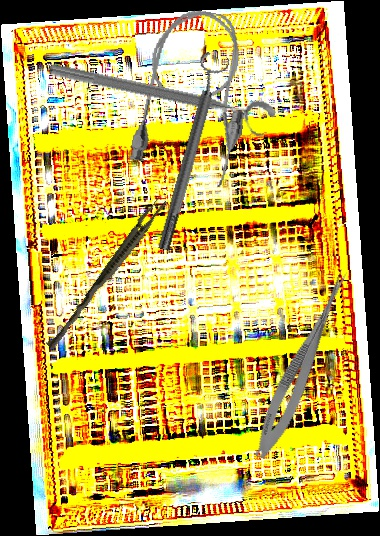Cannula: (126, 2, 264, 190)
Fixation Ring: (44, 56, 278, 142), (146, 50, 234, 254)
Micro Scissor: (248, 263, 355, 464)
Tissue Forceps: (45, 193, 169, 354)
